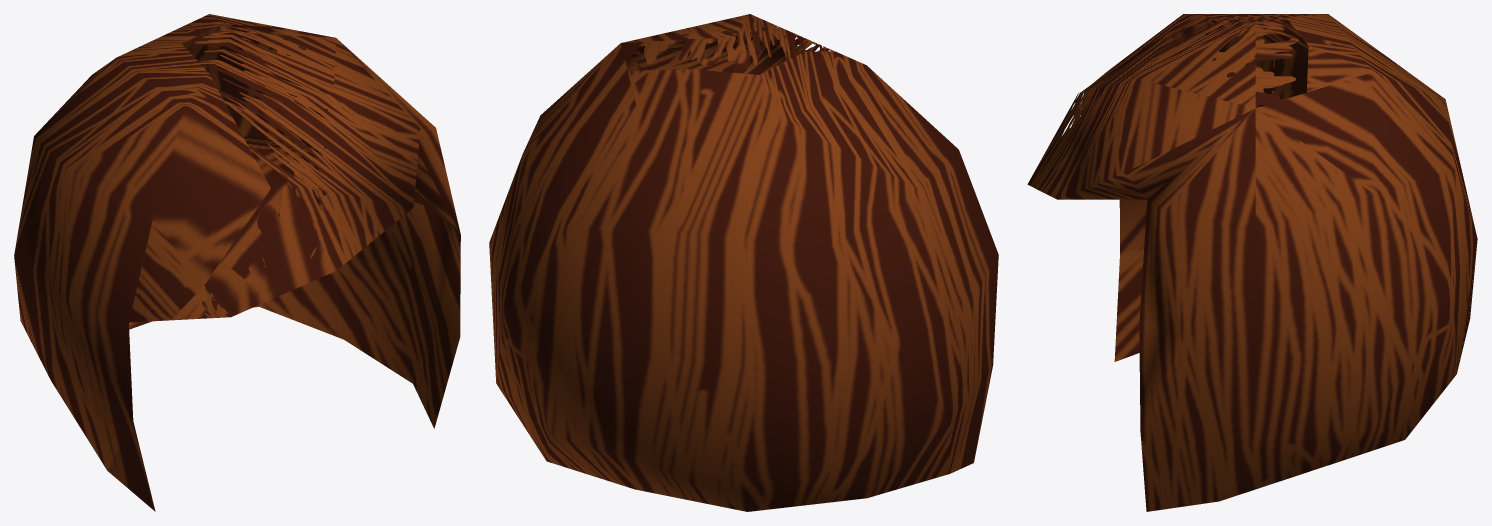
File: straight.fbx
3 views of the same model, side by side, from view 1: azimuth 30°, elevation 25°; view 2: azimuth 150°, elevation 25°; view 3: azimuth 270°, elevation 25° (orthographic). The views are drawn at different scales.
Visible parts, largest first — view 1: hair-straight; view 2: hair-straight; view 3: hair-straight.
Part boxes in pixels (box(x1,y1,x2,y2)): hair-straight: box(14, 14, 460, 511); hair-straight: box(489, 14, 998, 511); hair-straight: box(1027, 14, 1477, 511).
Bounding box in the file's own units: 746 × 745 × 738.
